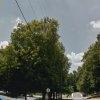Tree: (6, 15, 81, 91)
